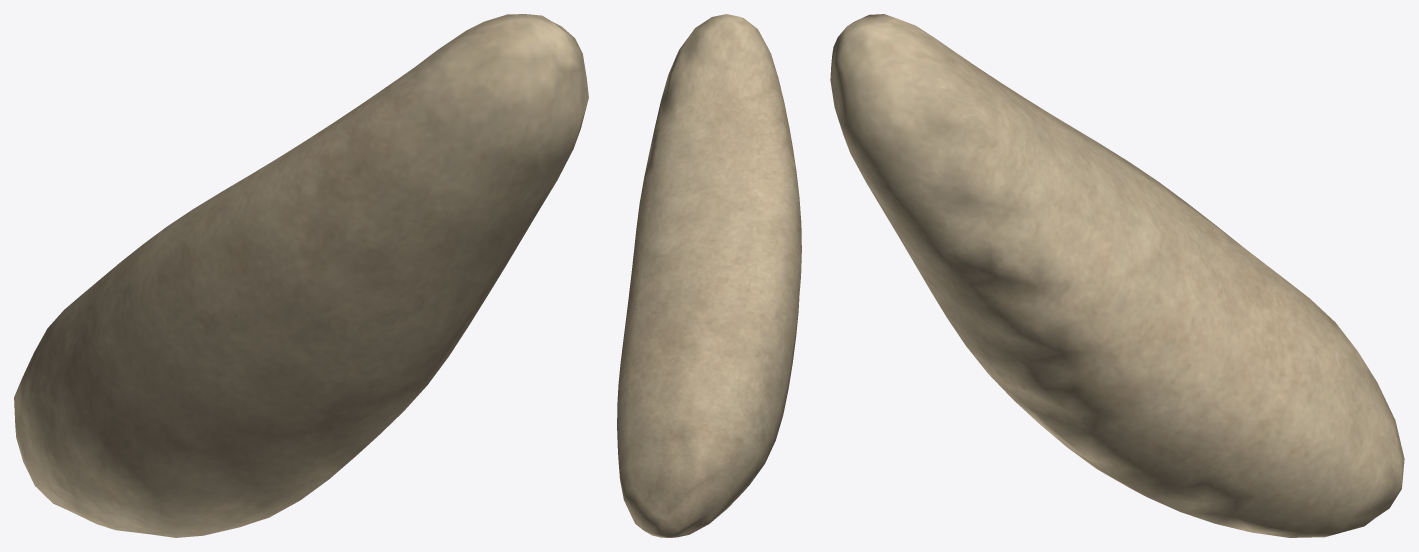
The model's file is Lower_Canine.glb.
3 views of the same model, side by side, from view 1: azimuth 30°, elevation 25°; view 2: azimuth 150°, elevation 25°; view 3: azimuth 270°, elevation 25° (orthographic). The views are drawn at different scales.
Visible parts, largest first — view 1: Group2144_Mesh.042; view 2: Group2144_Mesh.042; view 3: Group2144_Mesh.042.
Boxes of the visible parts, box(x1,y1,x2,y2) form: Group2144_Mesh.042: box(14, 14, 588, 537); Group2144_Mesh.042: box(617, 14, 801, 537); Group2144_Mesh.042: box(830, 14, 1404, 537).
Size of the model in its own units: 0.00927 by 0.0168 by 0.0153.
Materials: 1 (1 with a texture image).
